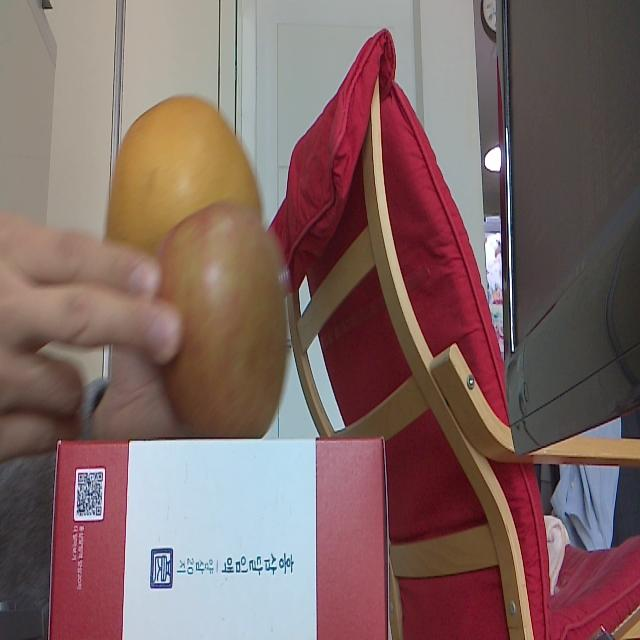apple: (162, 206, 287, 439)
pear: (105, 96, 262, 206)
